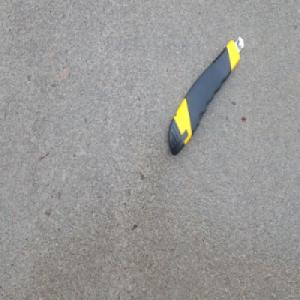Cutter: (165, 34, 245, 156)
